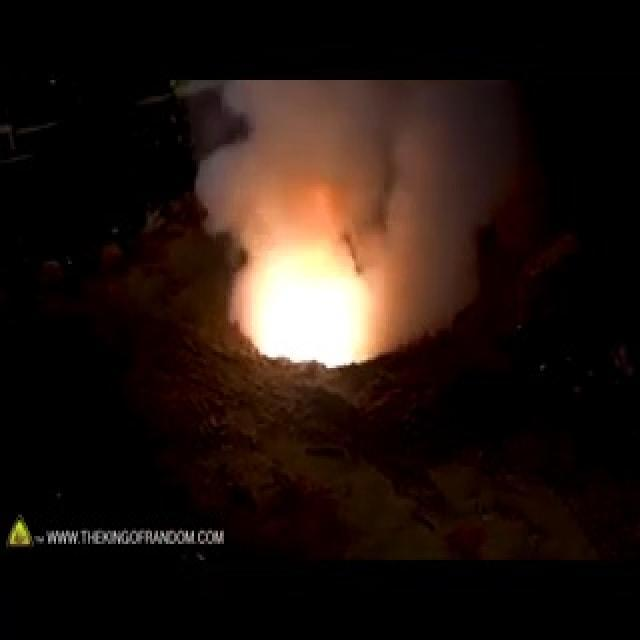fire: (222, 194, 376, 368)
